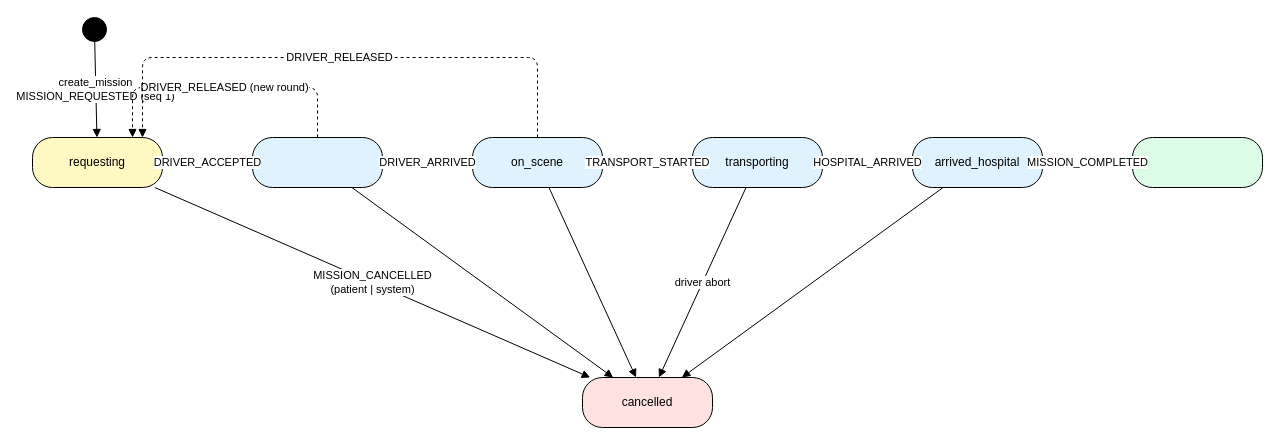
The diagram is 1281 pixels wide and 445 high, and some of its shapes have lost their labels. The shapes that lost their labels are listed below. From the top down, each one's centre as x and y in pixels, then its label:
(x=317, y=162): en_route
(x=1197, y=162): completed
